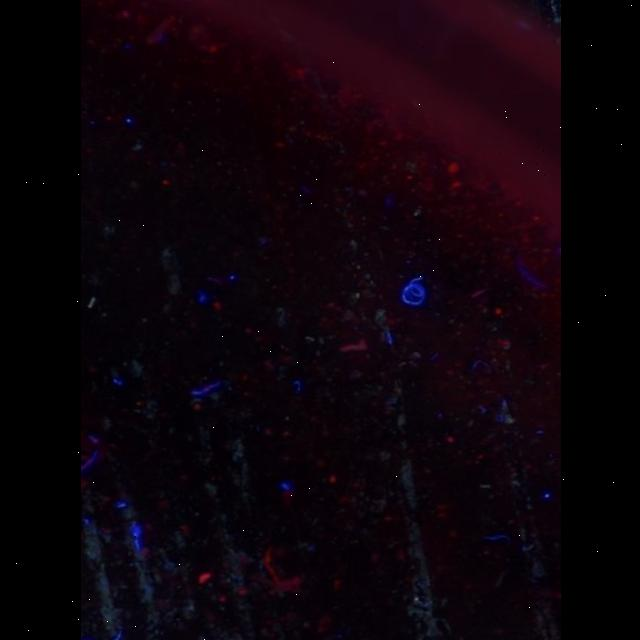microbeads: (87, 298, 93, 308)
